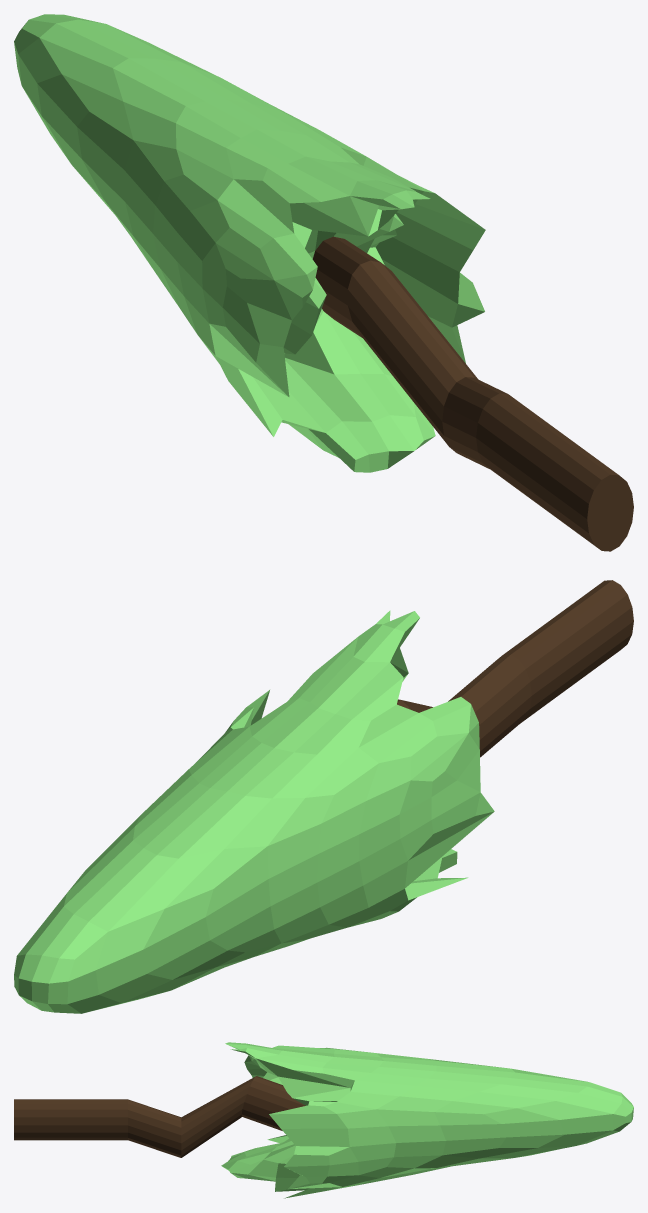
Rendered from Low_Poly_Tree_2.fbx.
3 renders of one model, top to bottom at view 1: azimuth 30°, elevation 25°; view 2: azimuth 150°, elevation 25°; view 3: azimuth 270°, elevation 25°, orthographic. The views are drawn at different scales.
Visible parts, largest first — view 1: rock.062; view 2: rock.062; view 3: rock.062.
Part boxes in pixels (x1,y1,x2,y2): rock.062: [14, 14, 633, 551]; rock.062: [14, 580, 633, 1013]; rock.062: [14, 1042, 633, 1198].
Size of the model in its own units: 154 by 164 by 667.
